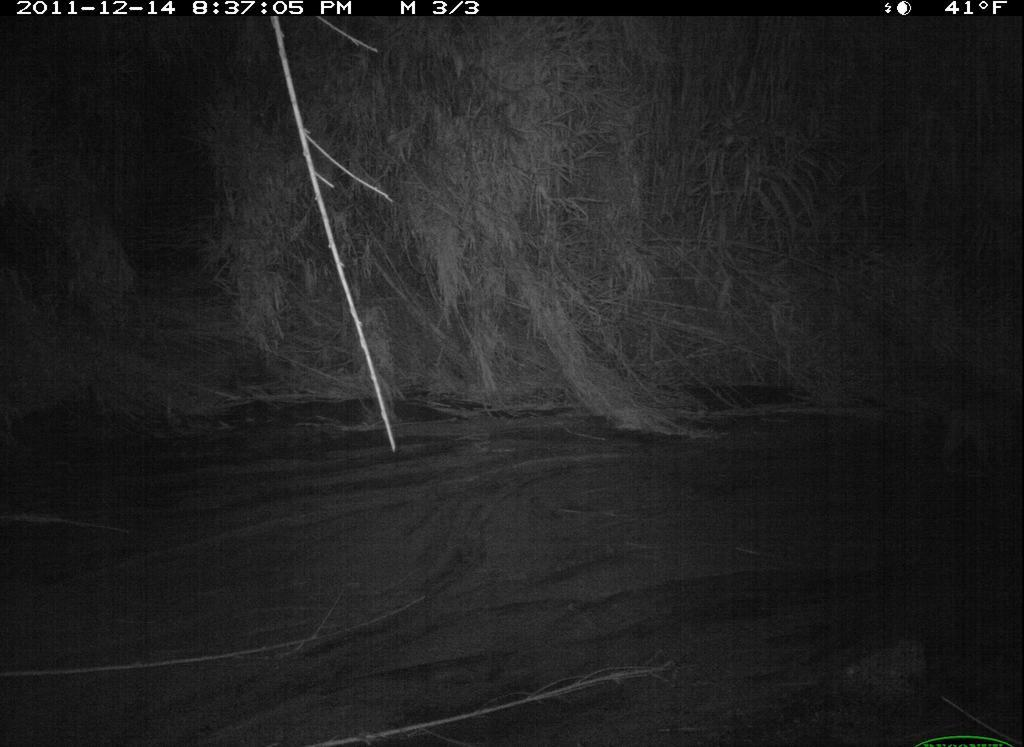bobcat: (935, 384, 1024, 479)
